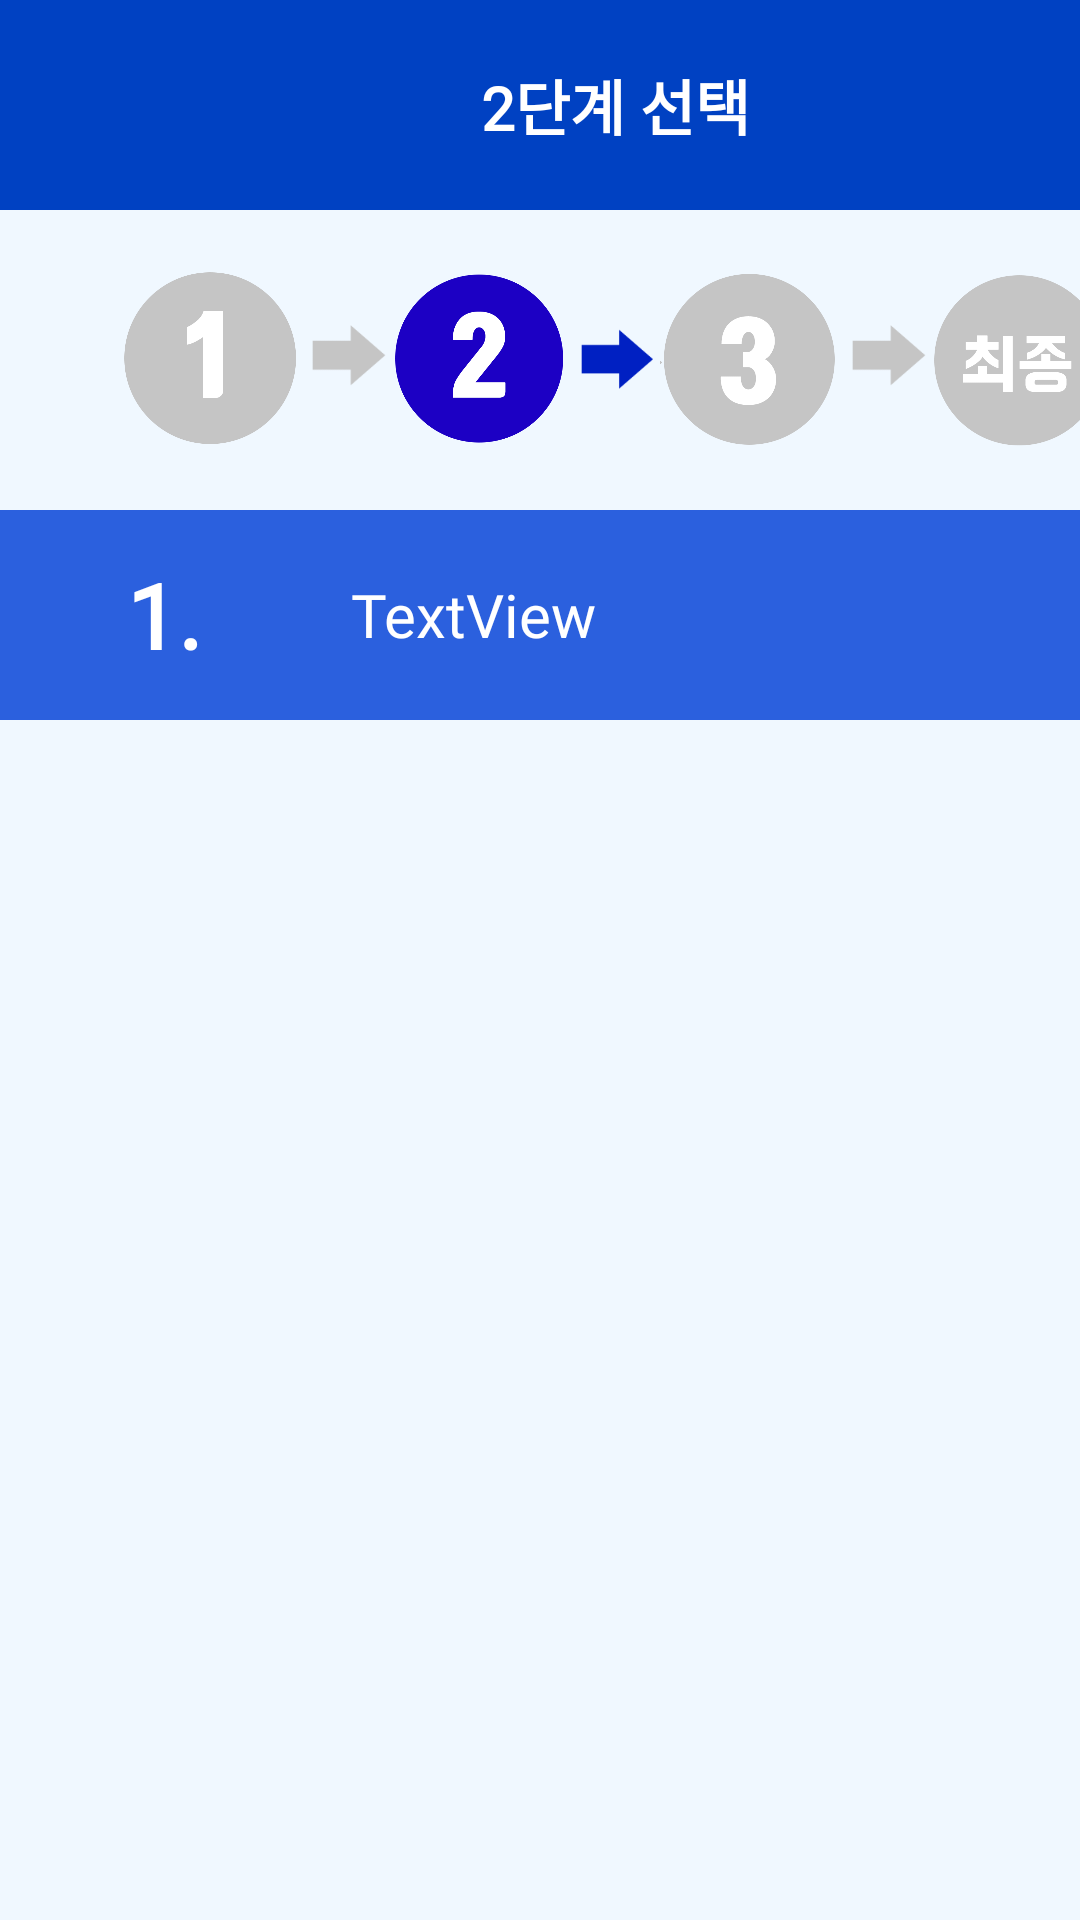

Named icons in this screenshot (1080 × 1920) and their bounding boxes, detection(x1, y1, x2, y2):
arrow: detection(313, 326, 385, 385), detection(853, 326, 925, 385), detection(581, 330, 653, 389)
